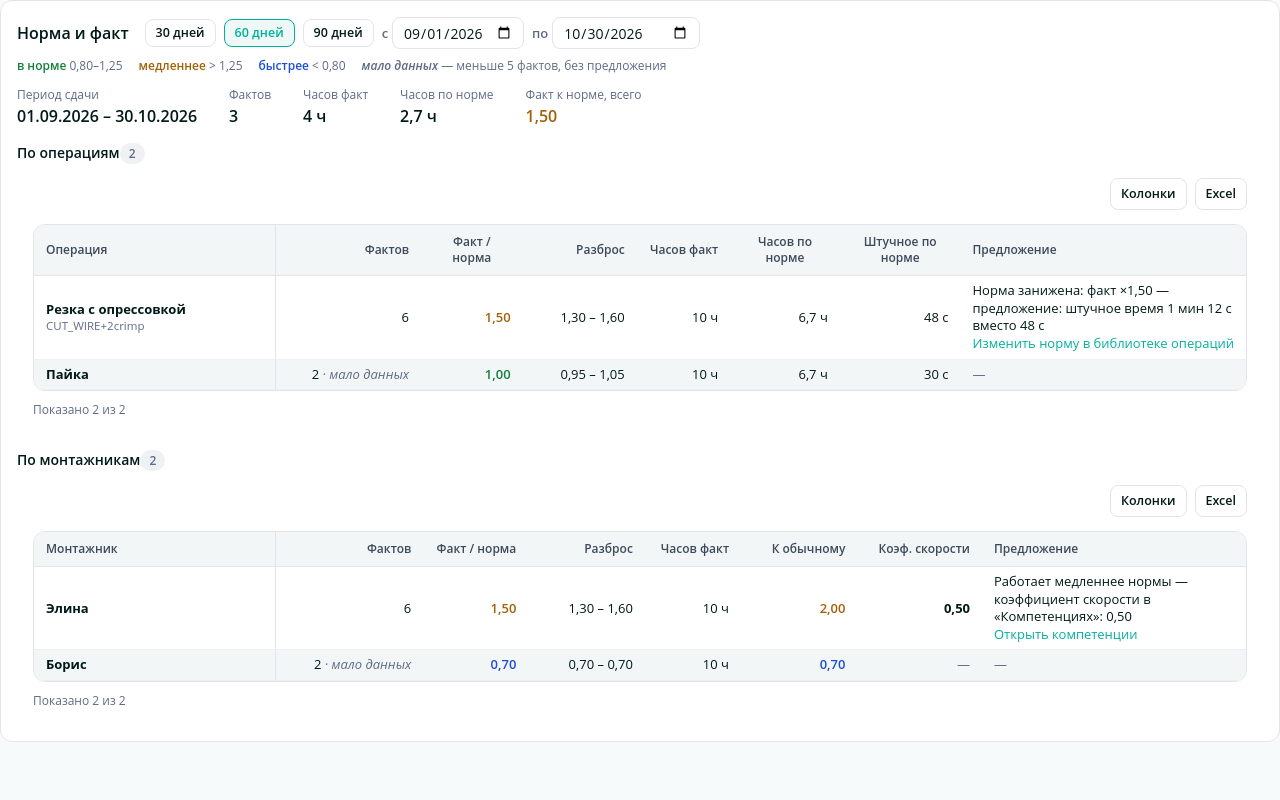
Test case: refetches for a chosen period and shows a load error
This screenshot has width=1280, height=800.
Expected: the element named "По операциям" is shown, [17,174,1263,434]
Type "2026-10-01" into the date field named "Начало периода" at (458, 33), box [392,17,524,49]
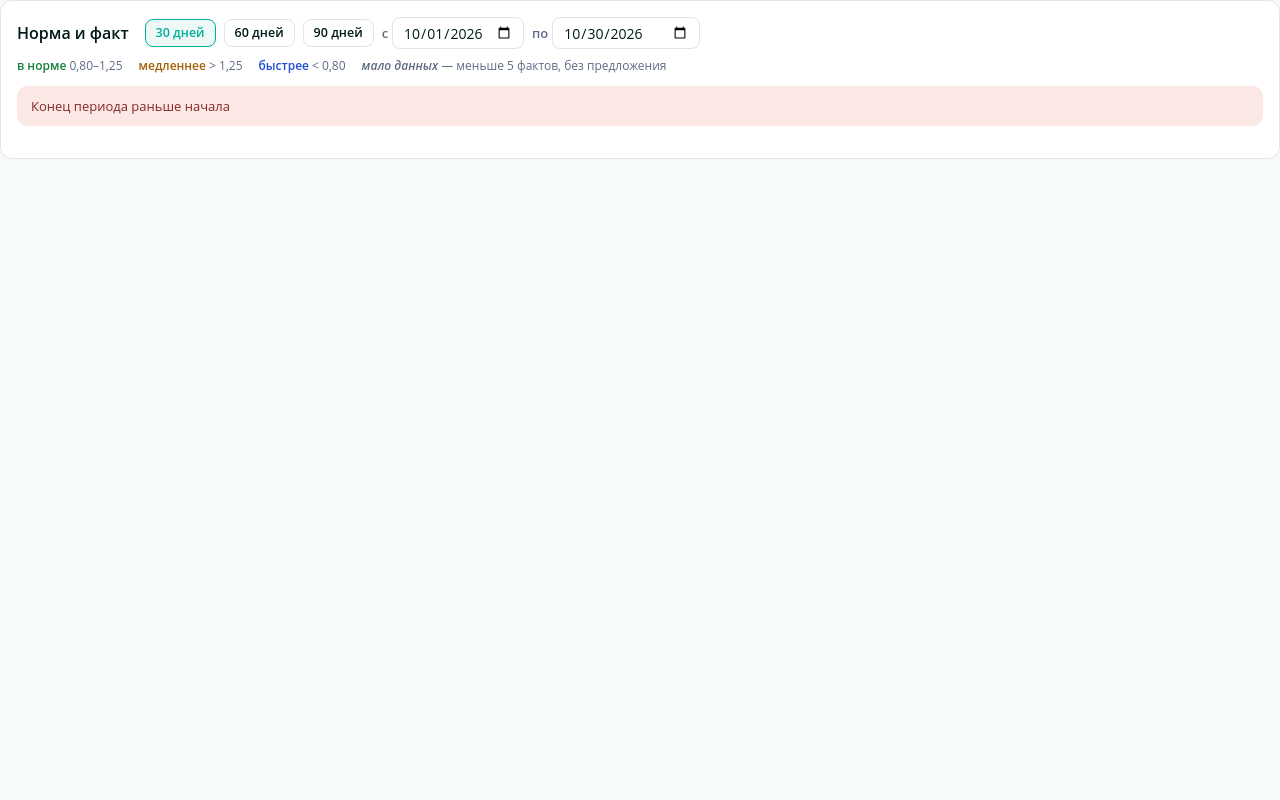
Now the message reads "Конец периода раньше начала", box [31,97,230,115]
